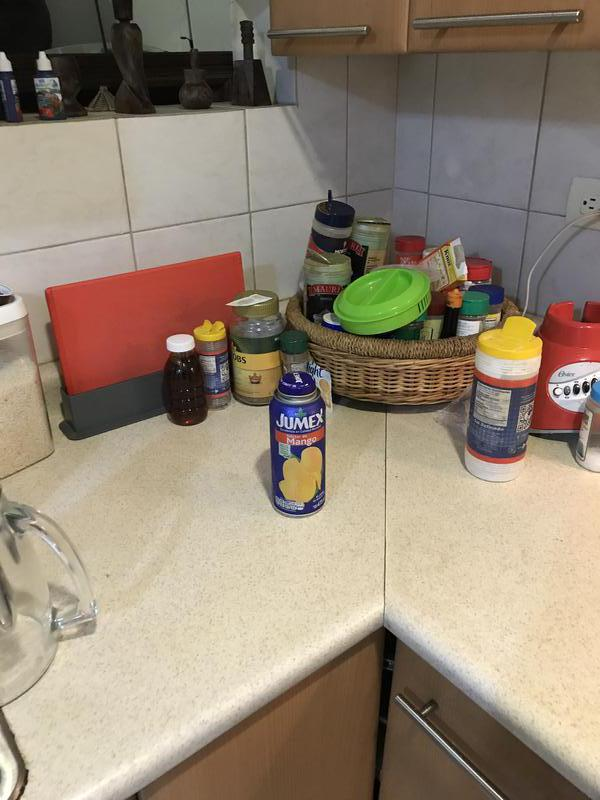jugo_jumex: (271, 370, 331, 515)
